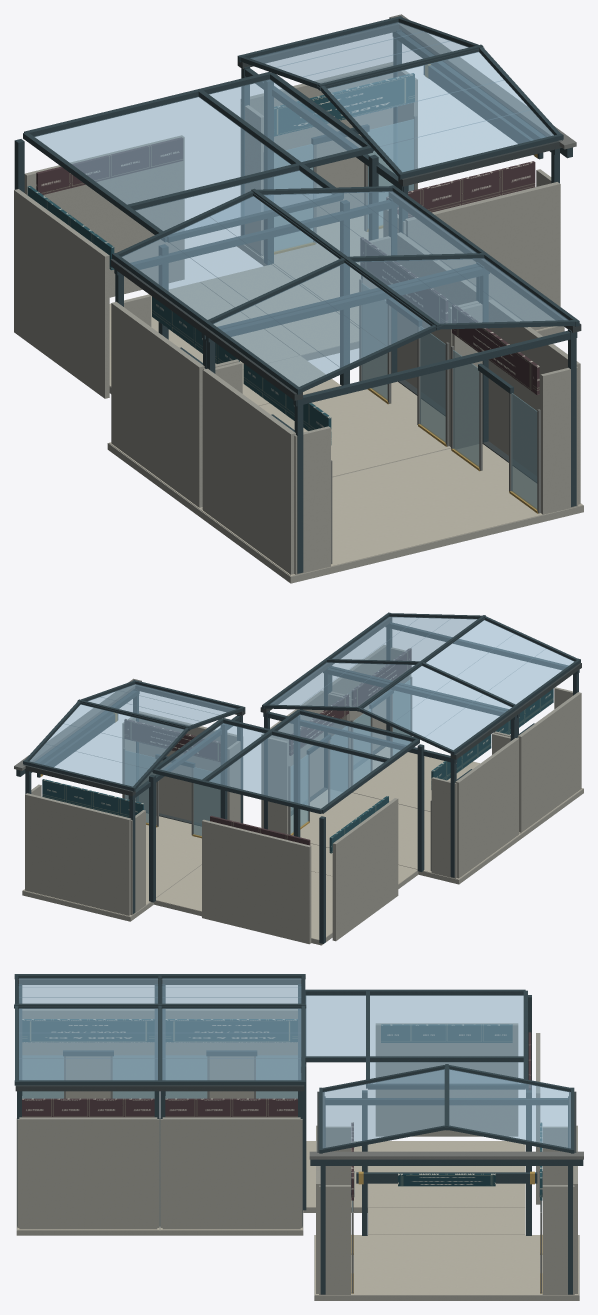
The picture shows the model from 3 angles, top to bottom: view 1: azimuth 30°, elevation 25°; view 2: azimuth 150°, elevation 25°; view 3: azimuth 270°, elevation 25°; orthographic projection. The views are drawn at different scales.
Parts seen in each view (by area): view 1: 00_straight_VIS_Terrazzo_Floor, 02_corner_VIS_Corner_Roof_Hub_Glass_0, 02_corner_VIS_Corner_Retail_Wall_West, 00_straight_VIS_Store_L_BackWall, 01_straight_VIS_Store_L_BackWall, 03_roof_end_VIS_Store_R_BackWall, 01_straight_VIS_Terrazzo_Floor, 02_corner_VIS_Corner_Retail_Wall_South, 00_straight_VIS_Store_R_BackWall, 03_roof_end_VIS_Roof_Glass_Pane_4_0, 02_corner_VIS_Corner_Roof_Departure_Glass_0, 03_roof_end_VIS_Roof_Glass_Pane_3_0 (+85 smaller); view 2: 02_corner_VIS_Corner_Retail_Wall_South, 03_roof_end_VIS_Store_L_BackWall, 02_corner_VIS_Corner_Roof_Hub_Glass_0, 02_corner_VIS_Corner_Retail_Wall_West, 01_straight_VIS_Store_L_BackWall, 00_straight_VIS_Store_L_BackWall, 01_straight_VIS_Terrazzo_Floor, 03_roof_end_VIS_Store_R_BackWall, 03_roof_end_VIS_Terrazzo_Floor, 00_straight_VIS_Terrazzo_Floor, 03_roof_end_VIS_Roof_Glass_Pane_1_0, 02_corner_VIS_Corner_Roof_Departure_Glass_0 (+73 smaller); view 3: 00_straight_VIS_Store_R_BackWall, 01_straight_VIS_Store_R_BackWall, 03_roof_end_VIS_Terrazzo_Floor, 02_corner_VIS_Corner_Roof_Hub_Glass_0, 02_corner_VIS_Corner_Retail_Wall_West, 02_corner_VIS_Corner_Hub_Floor, 00_straight_VIS_Store_L_BackWall, 01_straight_VIS_Store_L_BackWall, 02_corner_VIS_Corner_Departure_Floor, 01_straight_VIS_Roof_Glass_Pane_4_0, 02_corner_VIS_Corner_Roof_Arrival_Glass_0, 00_straight_VIS_Roof_Glass_Pane_4_0 (+71 smaller).
Boxes of the visible parts, bbox=[...] form: 00_straight_VIS_Terrazzo_Floor: bbox=[201, 444, 582, 576]; 02_corner_VIS_Corner_Roof_Hub_Glass_0: bbox=[35, 97, 290, 204]; 02_corner_VIS_Corner_Retail_Wall_West: bbox=[14, 189, 109, 398]; 00_straight_VIS_Store_L_BackWall: bbox=[202, 368, 295, 574]; 01_straight_VIS_Store_L_BackWall: bbox=[111, 301, 204, 507]; 03_roof_end_VIS_Store_R_BackWall: bbox=[405, 182, 560, 330]; 01_straight_VIS_Terrazzo_Floor: bbox=[109, 381, 450, 509]; 02_corner_VIS_Corner_Retail_Wall_South: bbox=[24, 135, 184, 297]; 00_straight_VIS_Store_R_BackWall: bbox=[488, 299, 580, 504]; 03_roof_end_VIS_Roof_Glass_Pane_4_0: bbox=[353, 80, 530, 146]; 02_corner_VIS_Corner_Roof_Departure_Glass_0: bbox=[209, 79, 361, 161]; 03_roof_end_VIS_Roof_Glass_Pane_3_0: bbox=[327, 52, 503, 116]; 02_corner_VIS_Corner_Retail_Wall_South: bbox=[202, 819, 311, 944]; 03_roof_end_VIS_Store_L_BackWall: bbox=[25, 793, 131, 915]; 02_corner_VIS_Corner_Roof_Hub_Glass_0: bbox=[209, 735, 383, 808]; 02_corner_VIS_Corner_Retail_Wall_West: bbox=[332, 798, 398, 941]; 01_straight_VIS_Store_L_BackWall: bbox=[455, 738, 518, 878]; 00_straight_VIS_Store_L_BackWall: bbox=[518, 692, 581, 832]; 01_straight_VIS_Terrazzo_Floor: bbox=[291, 789, 520, 879]; 03_roof_end_VIS_Store_R_BackWall: bbox=[139, 711, 236, 822]; 03_roof_end_VIS_Terrazzo_Floor: bbox=[23, 813, 201, 916]; 00_straight_VIS_Terrazzo_Floor: bbox=[352, 747, 582, 833]; 03_roof_end_VIS_Roof_Glass_Pane_1_0: bbox=[45, 723, 166, 768]; 02_corner_VIS_Corner_Roof_Departure_Glass_0: bbox=[160, 723, 264, 779]; 00_straight_VIS_Store_R_BackWall: bbox=[19, 1117, 157, 1229]; 01_straight_VIS_Store_R_BackWall: bbox=[162, 1117, 300, 1229]; 03_roof_end_VIS_Terrazzo_Floor: bbox=[315, 1235, 578, 1295]; 02_corner_VIS_Corner_Roof_Hub_Glass_0: bbox=[370, 995, 523, 1056]; 02_corner_VIS_Corner_Retail_Wall_West: bbox=[376, 1023, 517, 1136]; 02_corner_VIS_Corner_Hub_Floor: bbox=[368, 1141, 525, 1207]; 00_straight_VIS_Store_L_BackWall: bbox=[22, 1009, 154, 1098]; 01_straight_VIS_Store_L_BackWall: bbox=[165, 1009, 297, 1098]; 02_corner_VIS_Corner_Departure_Floor: bbox=[368, 1207, 525, 1234]; 01_straight_VIS_Roof_Glass_Pane_4_0: bbox=[162, 1032, 301, 1058]; 02_corner_VIS_Corner_Roof_Arrival_Glass_0: bbox=[305, 995, 365, 1056]; 00_straight_VIS_Roof_Glass_Pane_4_0: bbox=[19, 1032, 157, 1058].
Bounding box in the file's own units: 11.93 × 5.4 × 15.9.
Materials: 11 (11 with a texture image).
